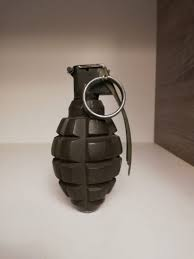e1: (52, 64, 135, 210)
